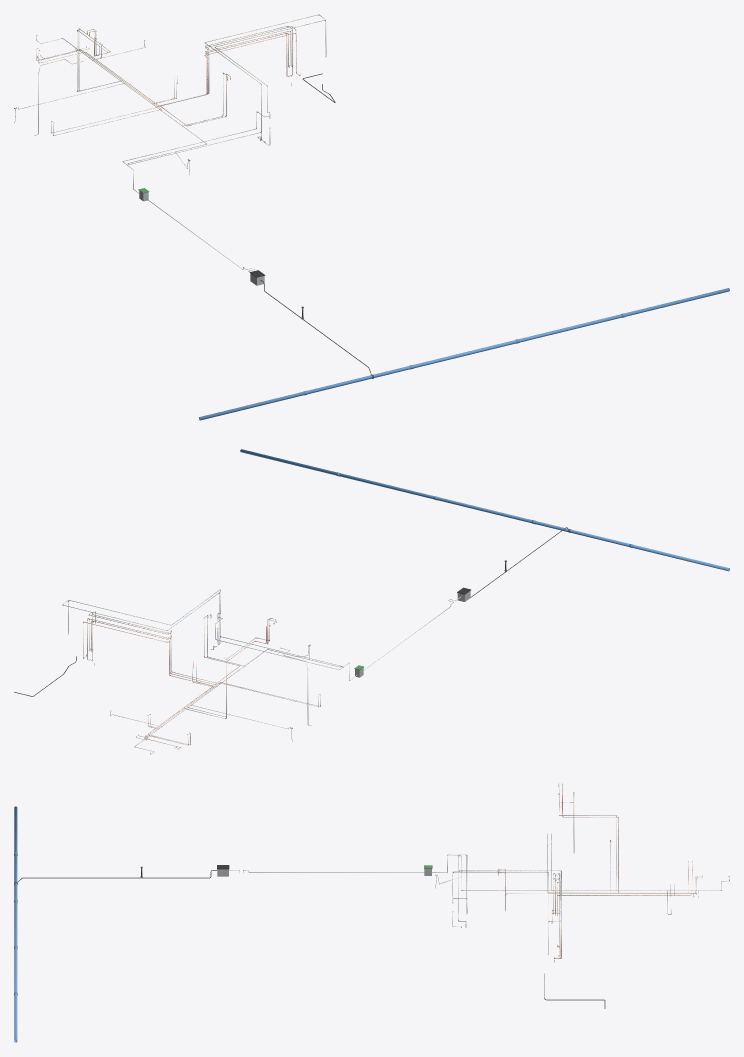
The model's file is pipes_supply.glb.
The picture shows the model from 3 angles, top to bottom: view 1: azimuth 30°, elevation 25°; view 2: azimuth 150°, elevation 25°; view 3: azimuth 270°, elevation 25°; orthographic projection. The views are drawn at different scales.
Visible parts, largest first — view 1: city_water_main; view 2: city_water_main; view 3: city_water_main.
Part boxes in pixels (bbox=[...]): city_water_main: bbox=[199, 288, 729, 420]; city_water_main: bbox=[240, 449, 729, 571]; city_water_main: bbox=[14, 806, 17, 1042].
Size of the model in its own units: 30.48 by 6.82 by 39.55.
